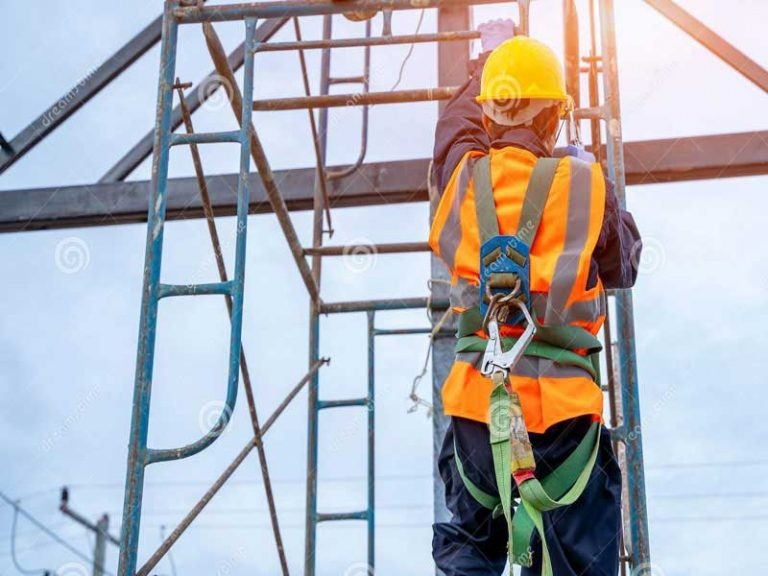Helmet: (474, 39, 567, 106)
Person: (413, 26, 627, 576)
Safety_Harness: (441, 150, 618, 575)
